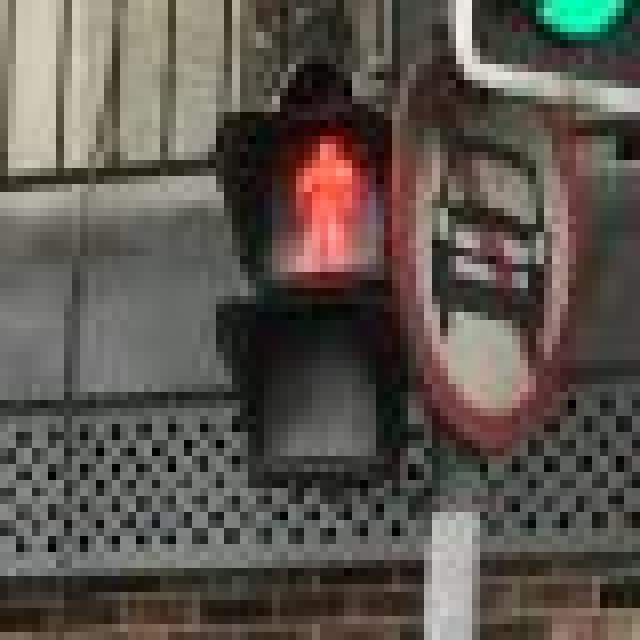redlight: (216, 80, 424, 472)
